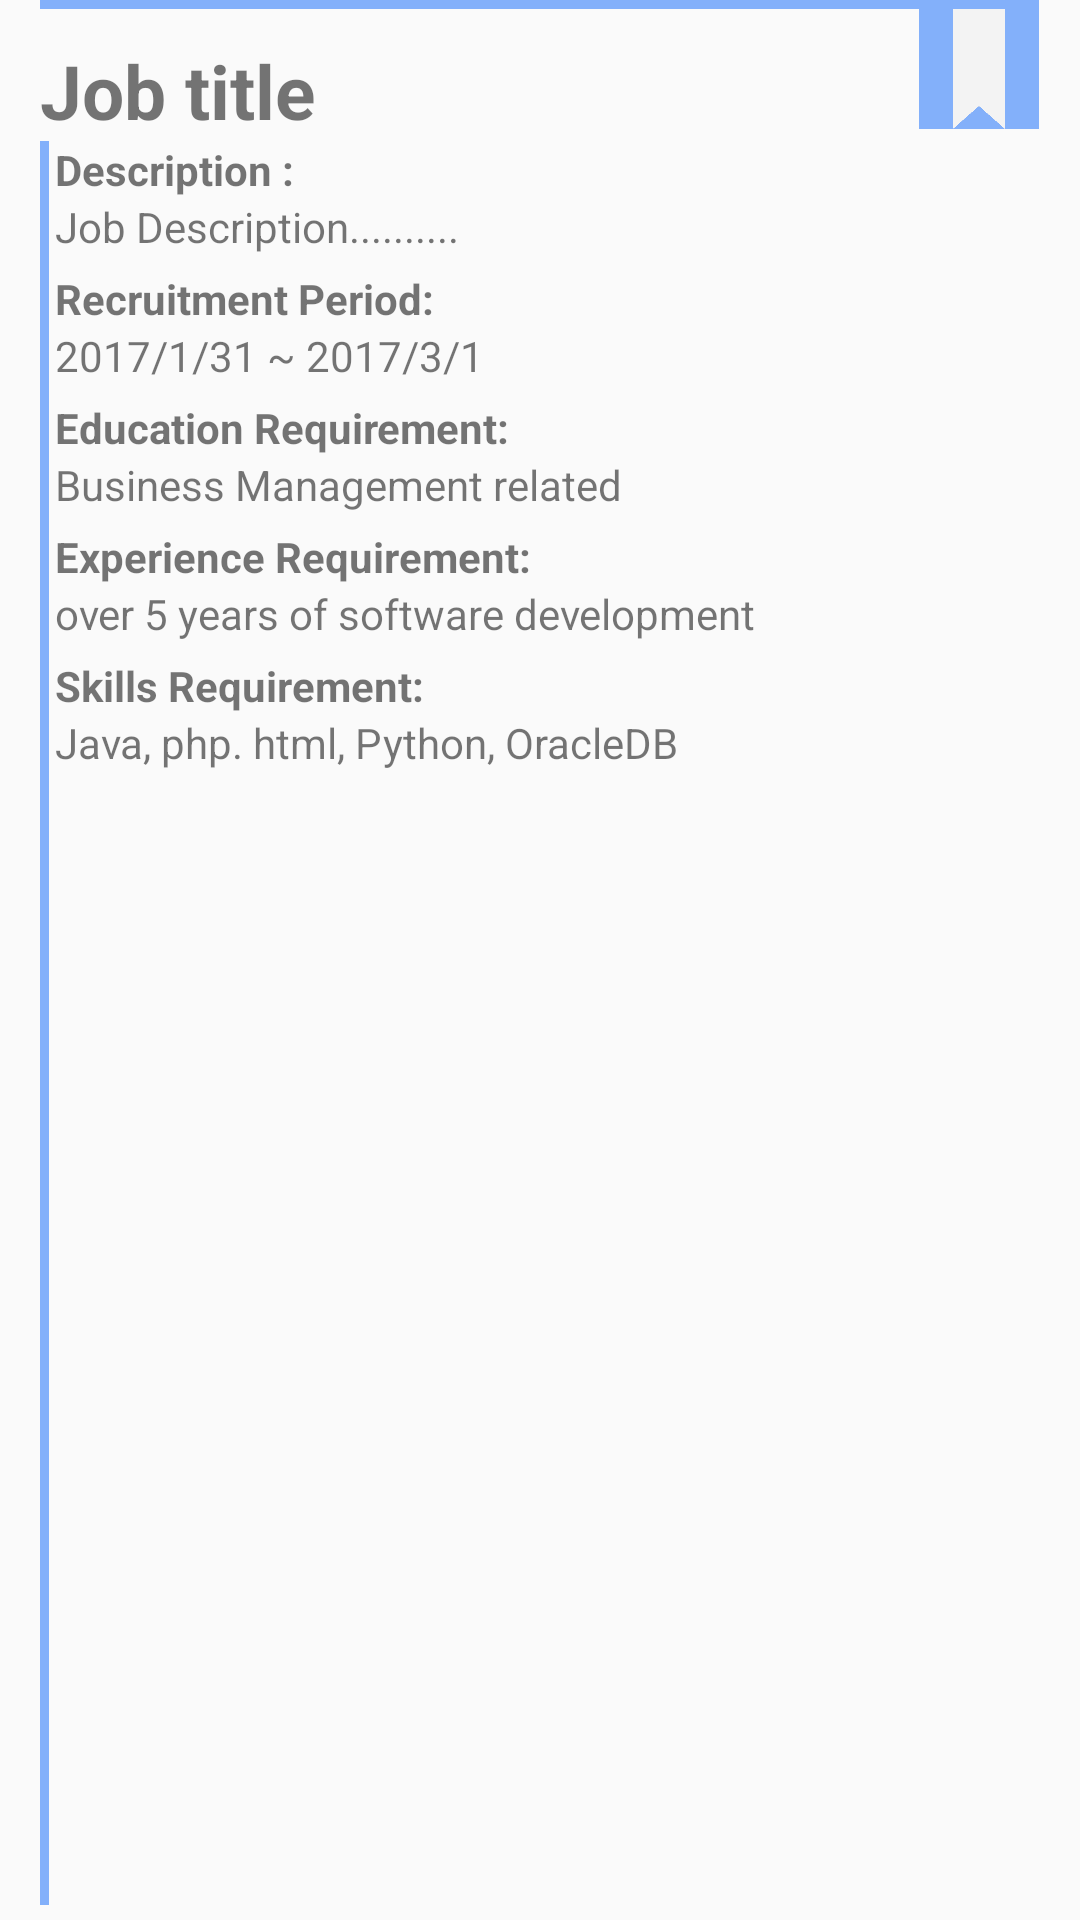

Named icons in this screenshot (1080w x 1920h) and their centers, (x=x, y=y):
bookmark link: (x=979, y=69)
